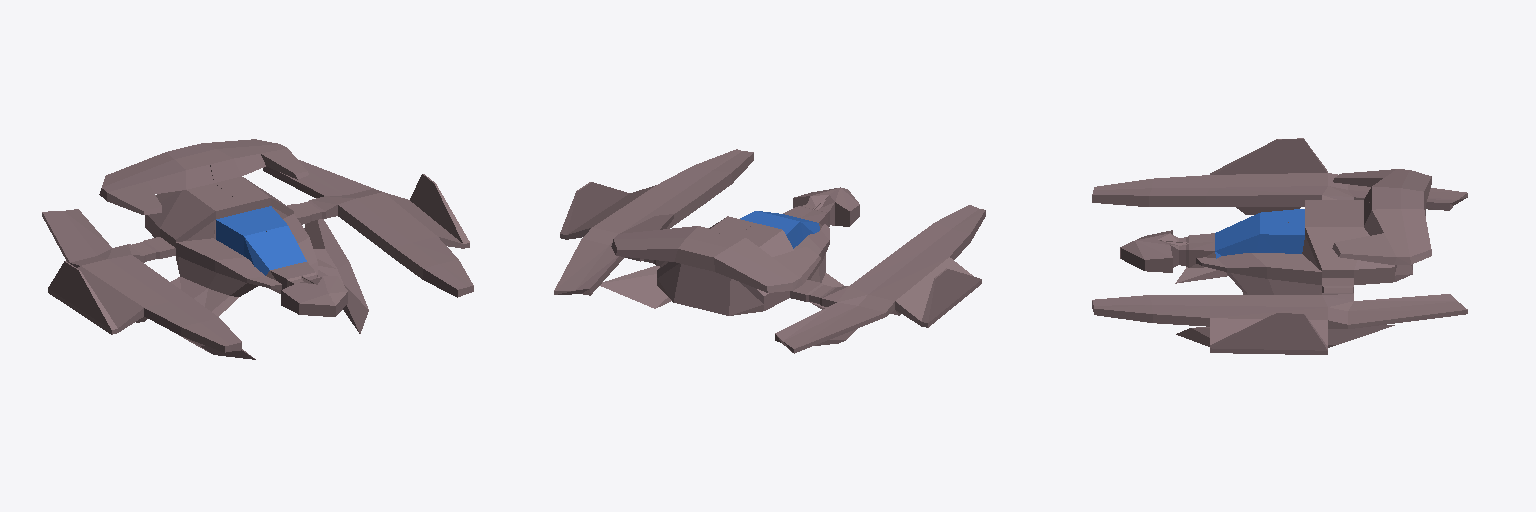
File: Raumschiff.obj
3 renders of one model, left to right at view 1: azimuth 30°, elevation 25°; view 2: azimuth 150°, elevation 25°; view 3: azimuth 270°, elevation 25°, orthographic.
Visible parts, largest first — view 1: Spaceship_Cube.001; view 2: Spaceship_Cube.001; view 3: Spaceship_Cube.001.
Boxes of the visible parts, box(x1,y1,x2,y2) form: Spaceship_Cube.001: box(42, 139, 473, 359); Spaceship_Cube.001: box(554, 149, 985, 353); Spaceship_Cube.001: box(1092, 138, 1467, 354).
Bounding box in the file's own units: 11.77 × 3.54 × 10.41.